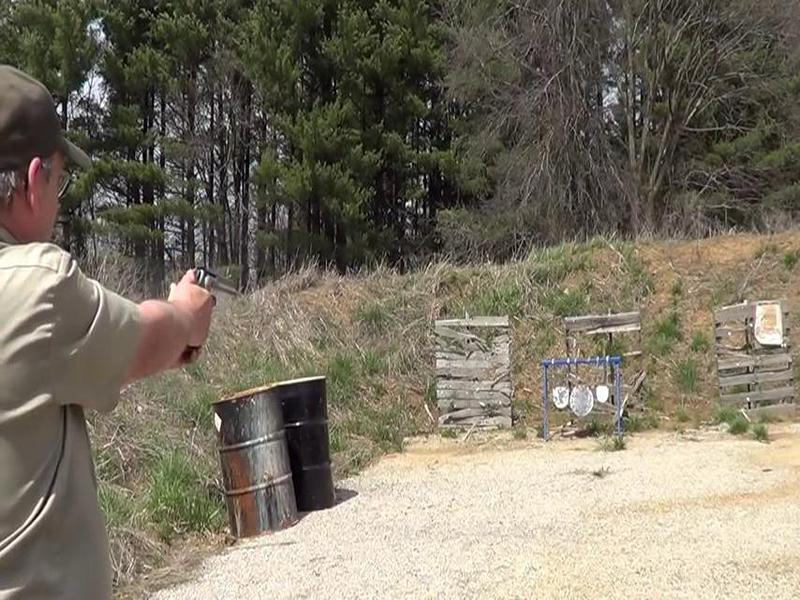Revolver: (182, 257, 255, 374)
